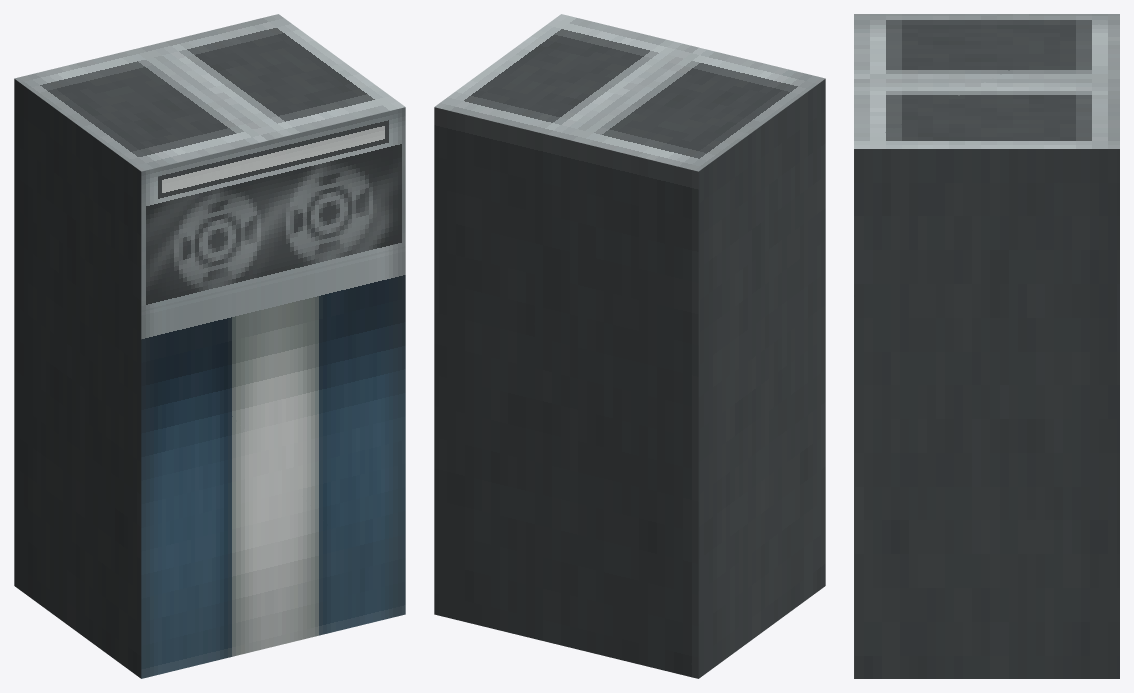
Rendered from mainframe.fbx.
3 views of the same model, side by side, from view 1: azimuth 30°, elevation 25°; view 2: azimuth 150°, elevation 25°; view 3: azimuth 270°, elevation 25° (orthographic). The views are drawn at different scales.
Parts seen in each view (by area): view 1: mainframe; view 2: mainframe; view 3: mainframe.
Boxes of the visible parts, x1,y1,x2,y2 form: mainframe: (14,14,405,678); mainframe: (434,14,825,678); mainframe: (854,14,1119,678).
Bounding box in the file's own units: 3 × 5.5 × 2.5.
